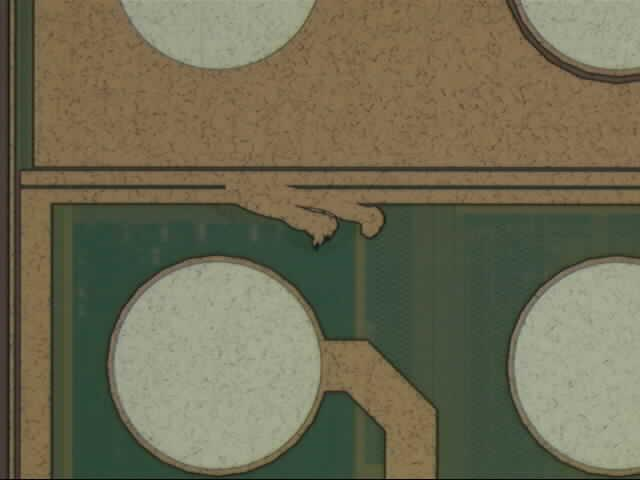BLOCK ETCH: (226, 171, 391, 251)
